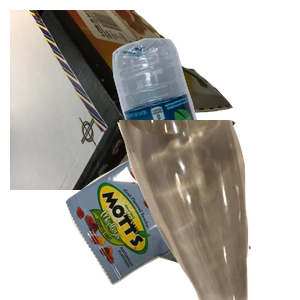cardboard: (10, 10, 238, 190)
glass: (115, 120, 300, 300)
plastic: (110, 36, 300, 216)
trash: (63, 137, 289, 300)
